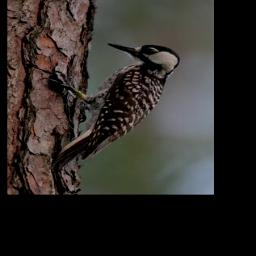Woodpecker: (43, 42, 181, 172)
